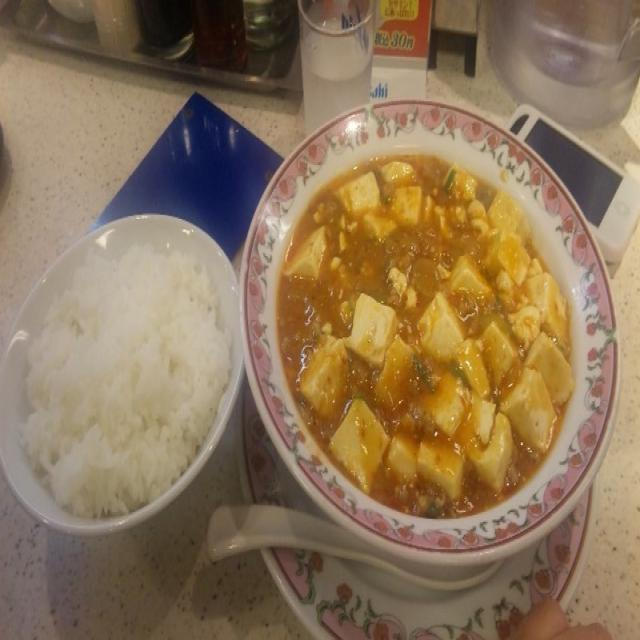Rice: (19, 246, 236, 516)
